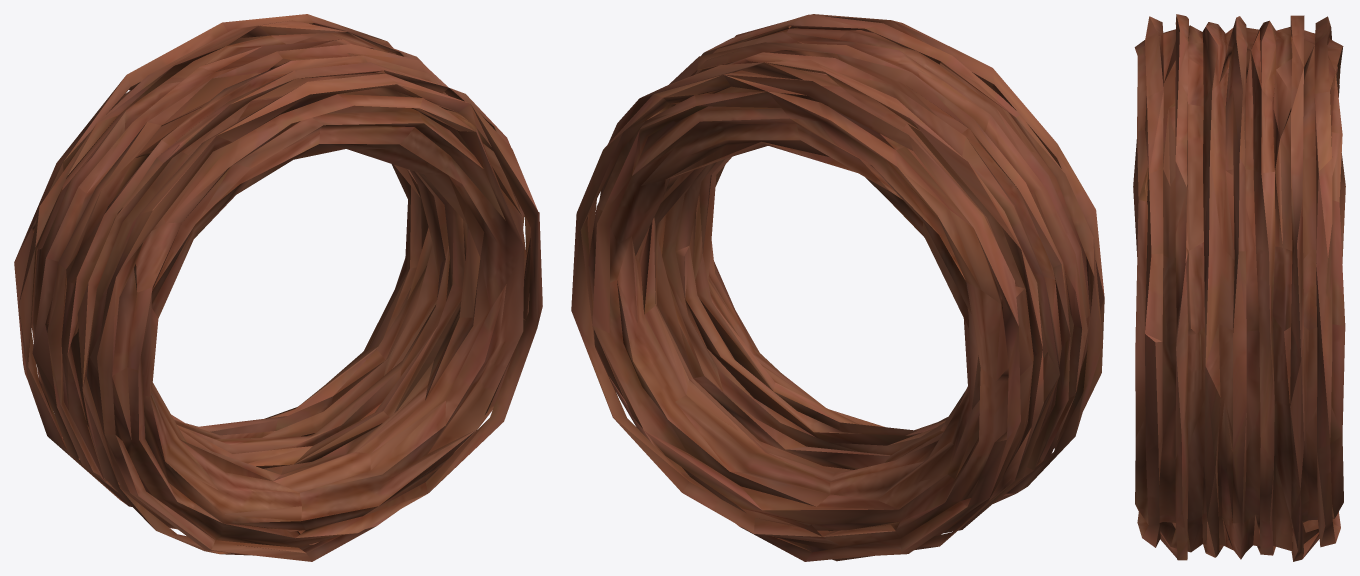
Rendered from mat_wire_mednaya_idle.glb.
3 renders of one model, left to right at view 1: azimuth 30°, elevation 25°; view 2: azimuth 150°, elevation 25°; view 3: azimuth 270°, elevation 25°, orthographic. The views are drawn at different scales.
Visible parts, largest first — view 1: tripo_node_5174a7fa-ba84-4599-a056-9af2a585d87e; view 2: tripo_node_5174a7fa-ba84-4599-a056-9af2a585d87e; view 3: tripo_node_5174a7fa-ba84-4599-a056-9af2a585d87e.
Boxes of the visible parts, box(x1,y1,x2,y2) form: tripo_node_5174a7fa-ba84-4599-a056-9af2a585d87e: box(14, 14, 542, 561); tripo_node_5174a7fa-ba84-4599-a056-9af2a585d87e: box(571, 14, 1104, 561); tripo_node_5174a7fa-ba84-4599-a056-9af2a585d87e: box(1133, 14, 1345, 561).
Size of the model in its own units: 0.1998 by 0.1999 by 0.0771.
1 material, 1 textured.
